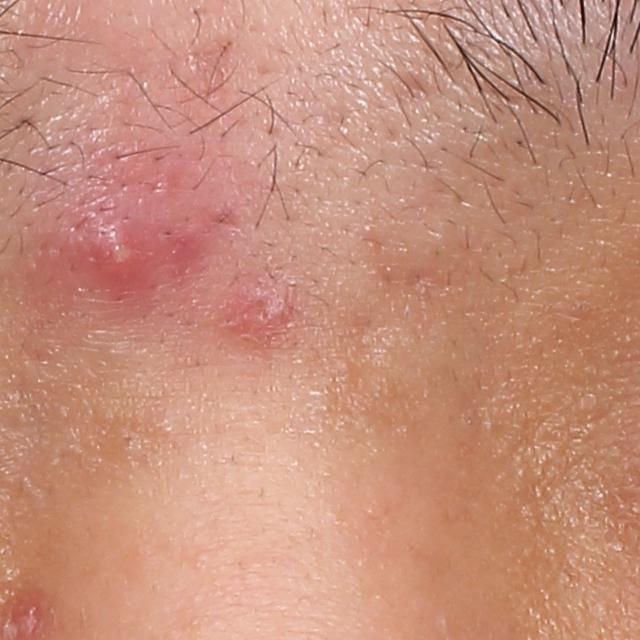papule: (234, 283, 291, 335)
